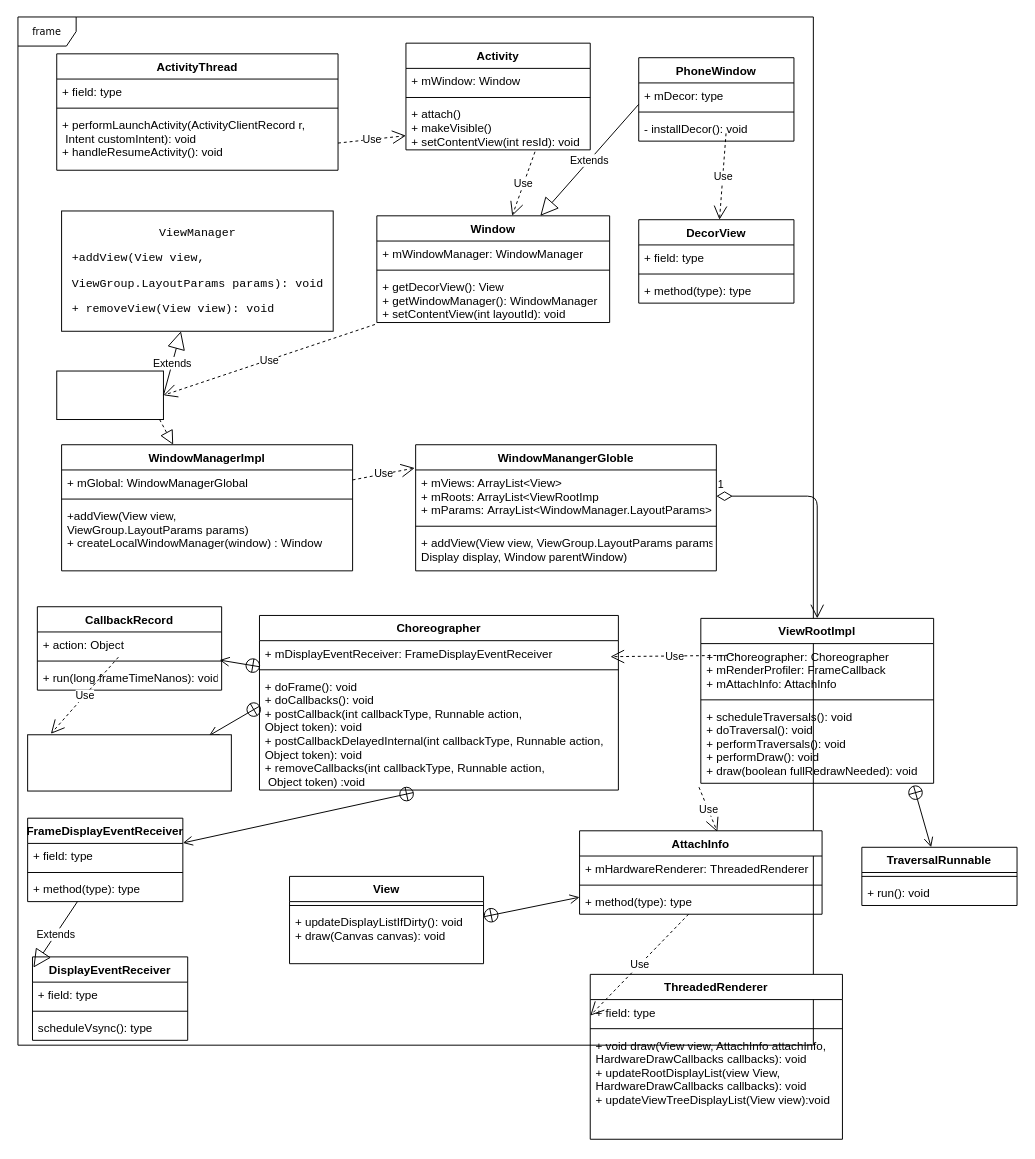
The diagram is 1035 pixels wide and 1159 high, and some of its shapes have lost their labels. Each missing label, with the centre of its shape:
FrameCallback +doFrame ( long frameTimeNanos): pixel 129 762
WindowManager: pixel 109 395
